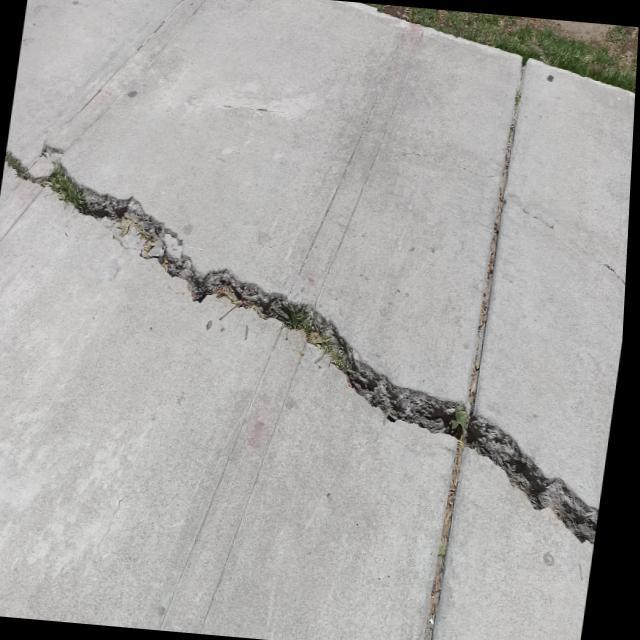hole: (0, 144, 634, 547)
